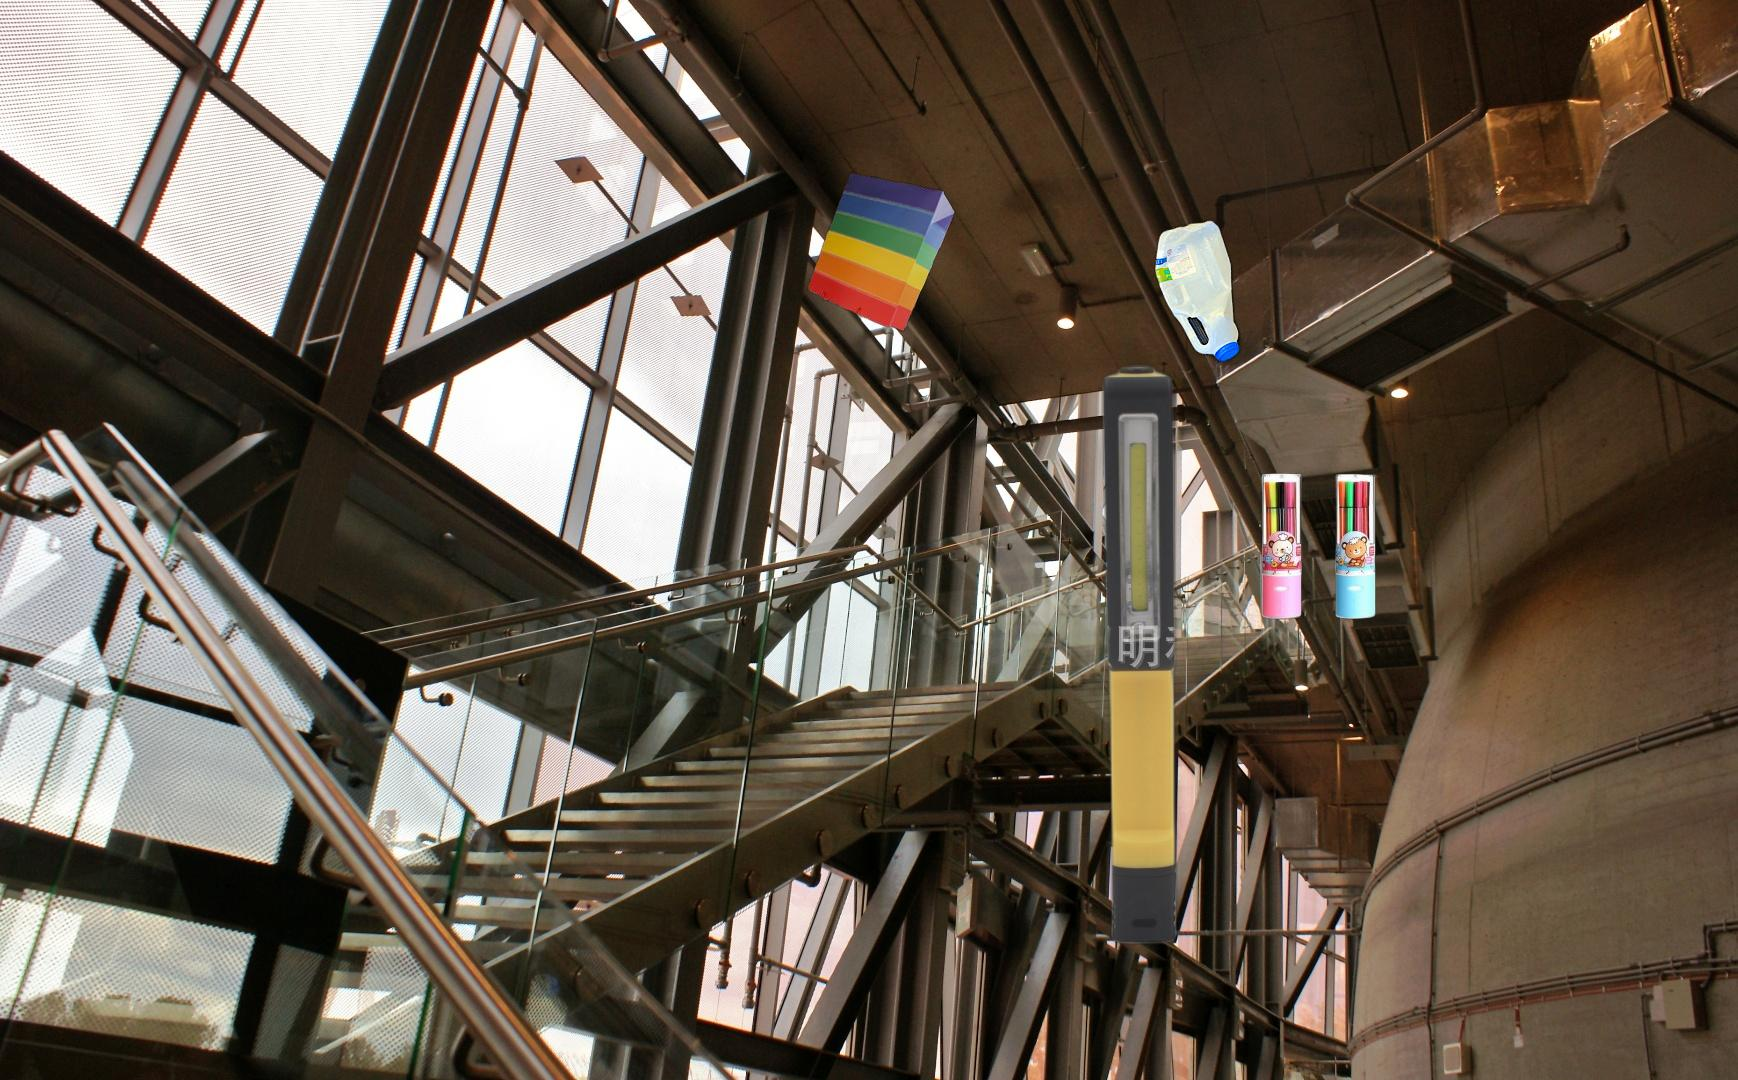paper-bag: (805, 158, 958, 333)
penholder: (1096, 358, 1184, 951), (1259, 470, 1378, 622)
plastic-bottles: (1151, 214, 1244, 368)
